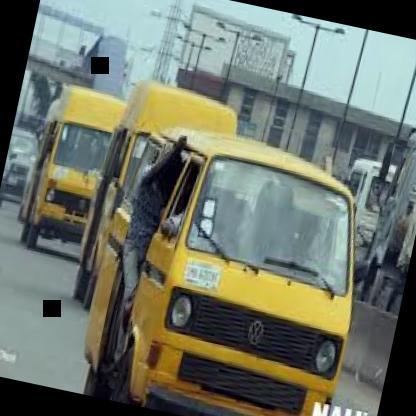car: (67, 105, 404, 416), (10, 68, 132, 280), (0, 102, 60, 235)
